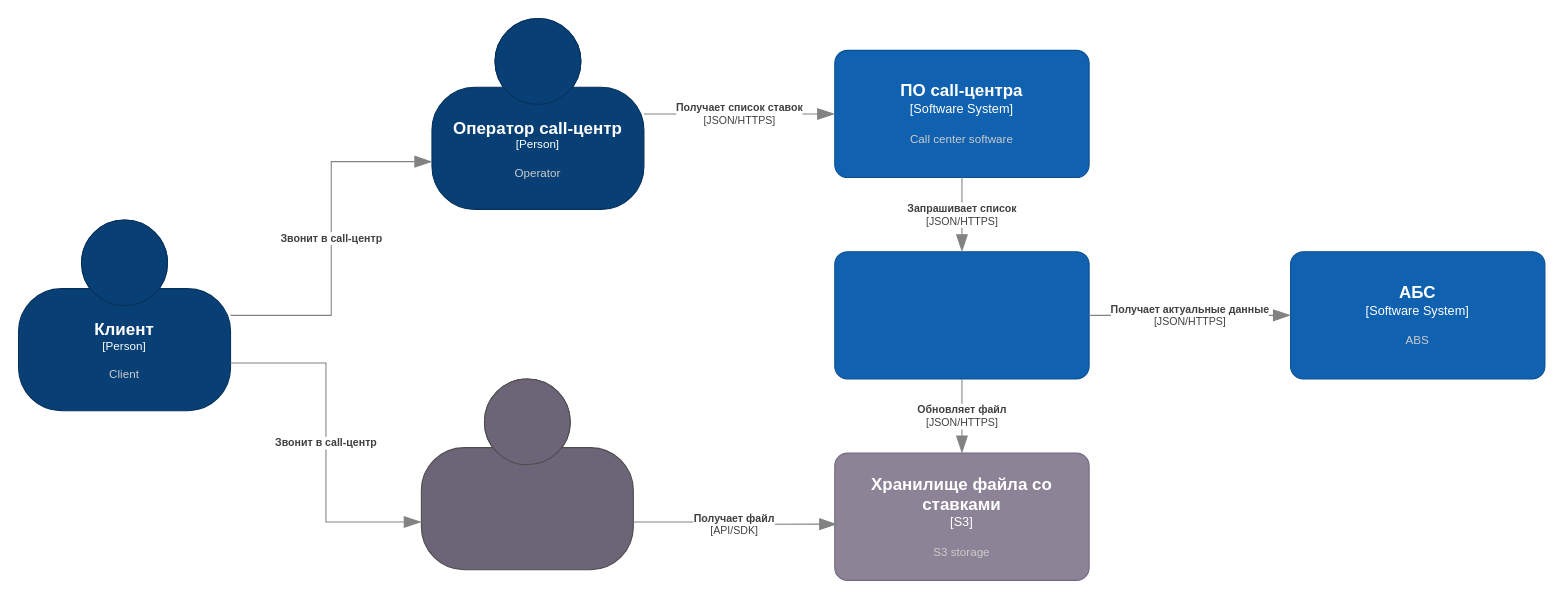
Some shapes in this 1563 by 599 pixel diagram are drawn without their labels. The shapes that lost their labels are listed below. From the top down, each one's box as (x1, y1, x2, y2) in pixels, then its label:
(834, 251, 1089, 379): Сервис ставок по депозитам [Software System] Deposit rates service
(420, 378, 633, 570): Оператор партнерского call-центр [Person] Operator
